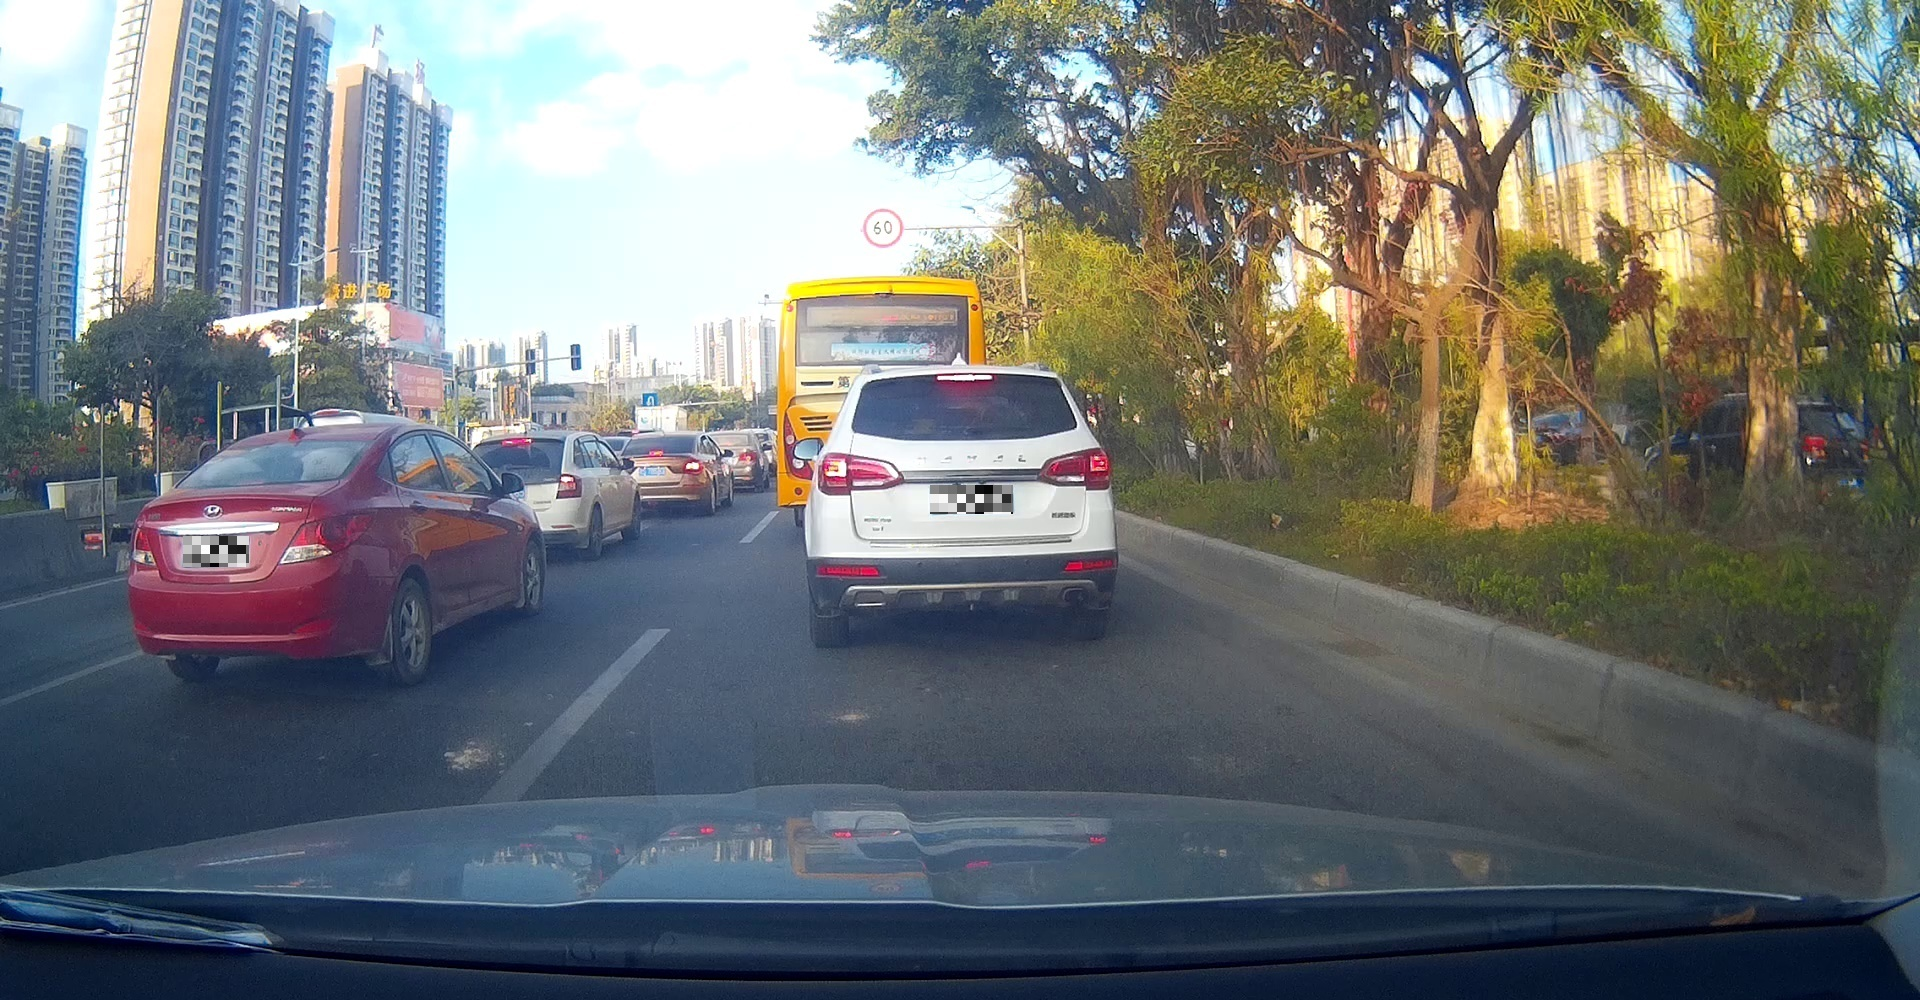L_light: (817, 452, 904, 495), (127, 524, 157, 567)
R_light: (276, 510, 378, 566), (1037, 445, 1111, 491)
T_light: (935, 371, 996, 383), (232, 477, 265, 489)
day-no: (815, 362, 1117, 648), (126, 424, 382, 683)
plate_1: (183, 536, 249, 567)
plate_2: (930, 485, 1013, 514)
